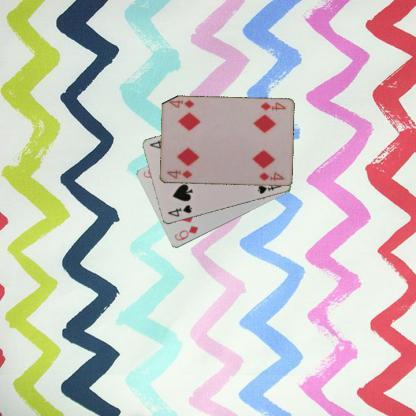4d: (257, 100, 287, 112), (164, 168, 193, 180)
4s: (165, 203, 194, 219)
6d: (172, 224, 200, 242)
